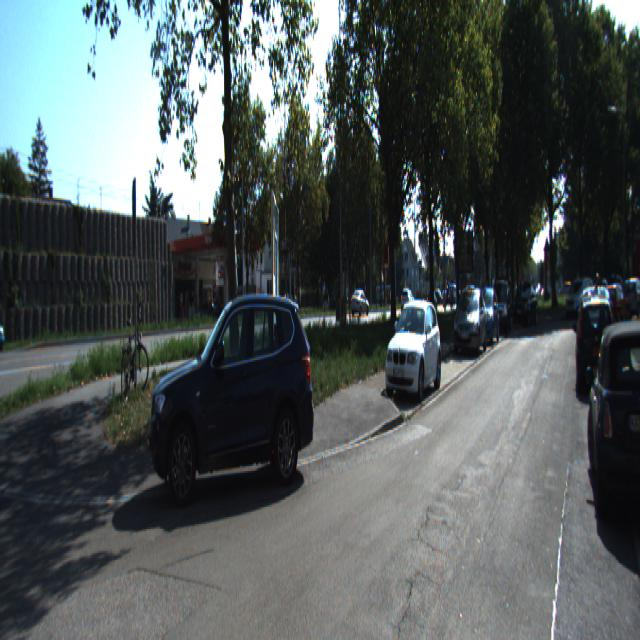Car: (141, 279, 320, 516), (588, 298, 639, 528), (383, 300, 445, 406), (575, 294, 619, 400), (452, 286, 488, 357), (472, 285, 500, 345)
